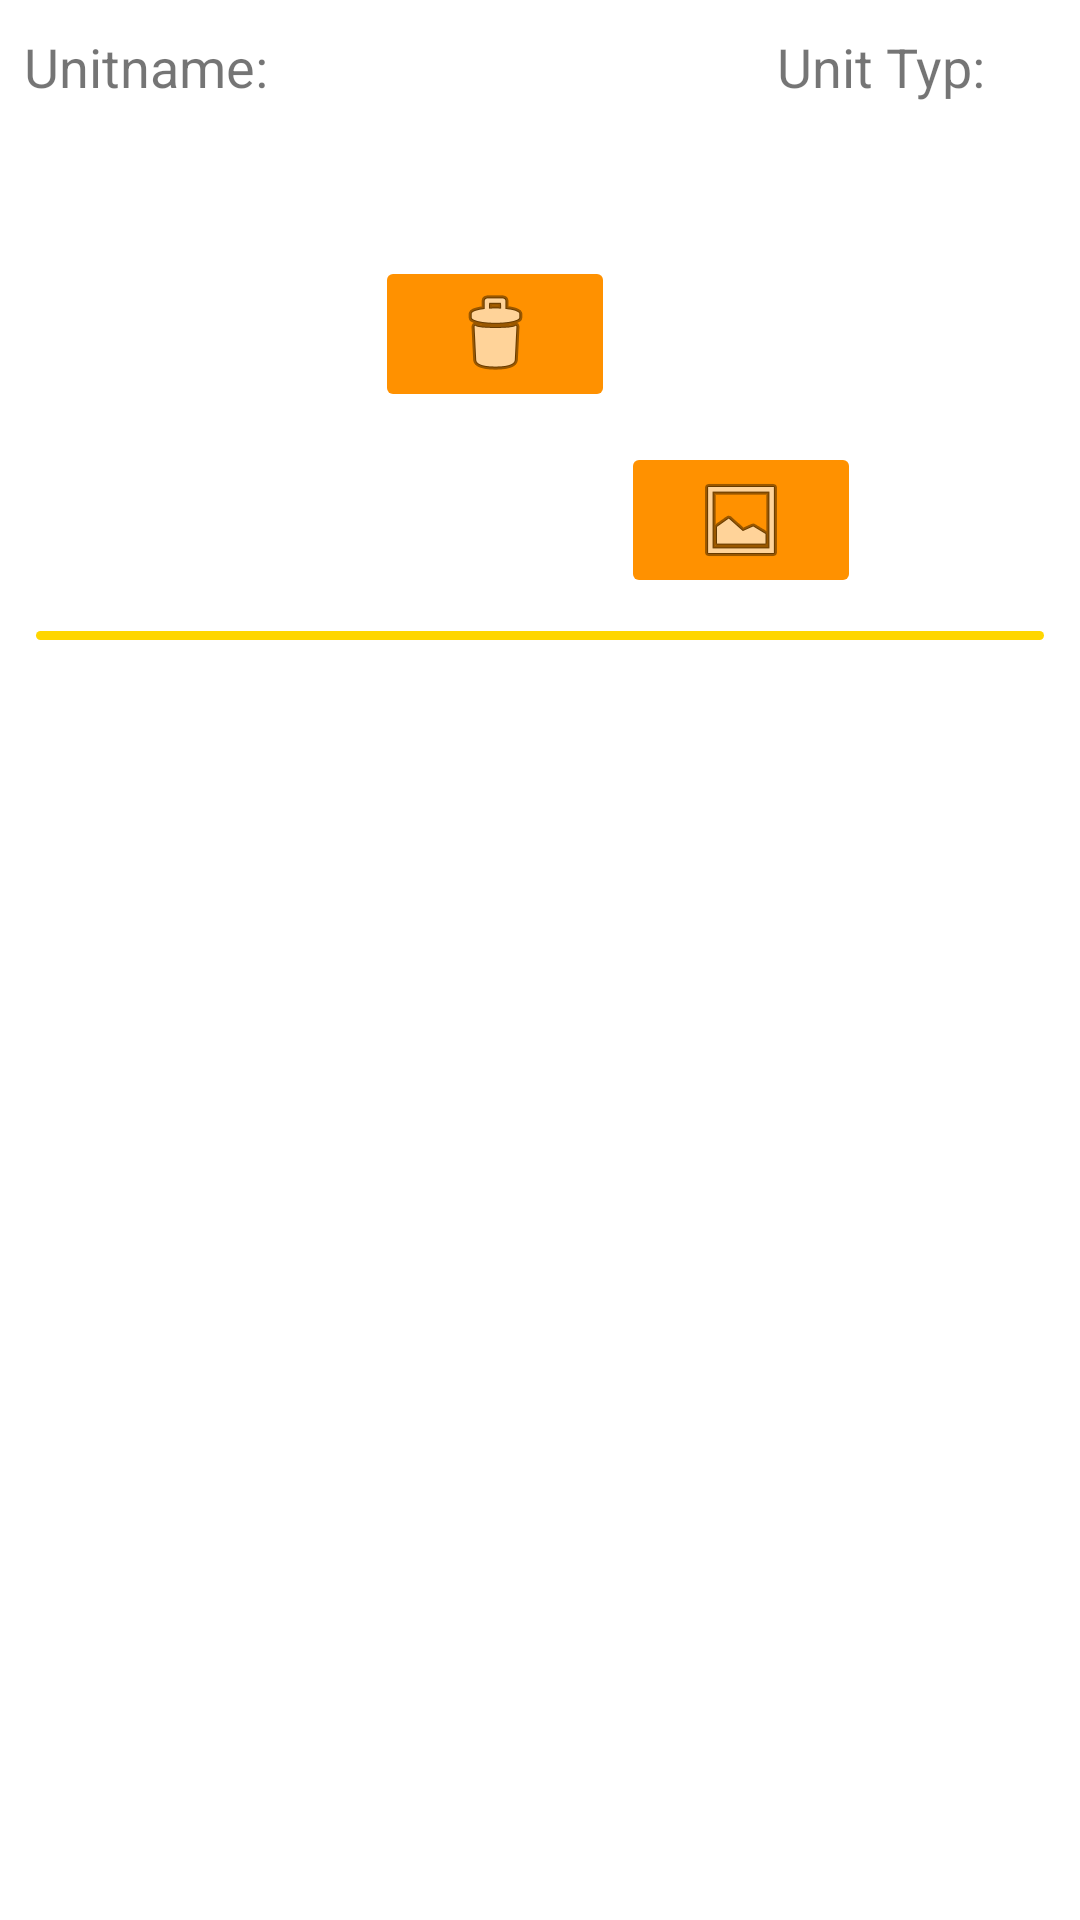

Point at icon controls on the screen. Image size 1080×1920, points as (x,y).
delete: (495,334)
